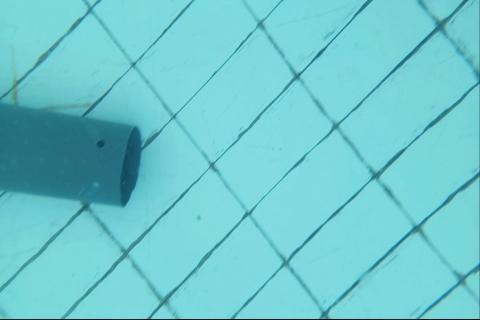kebocoran: (95, 138, 105, 148)
